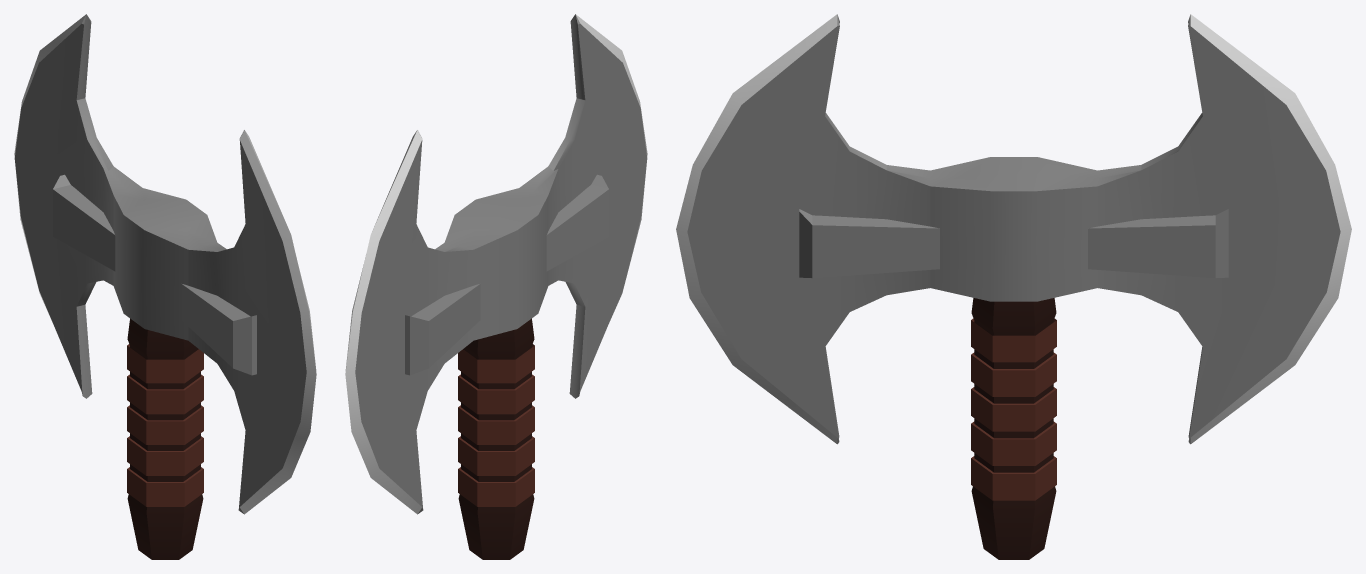
The model's file is Axe36.glb.
The picture shows the model from 3 angles, left to right: view 1: azimuth 30°, elevation 25°; view 2: azimuth 150°, elevation 25°; view 3: azimuth 270°, elevation 25°; orthographic projection. The views are drawn at different scales.
Visible parts, largest first — view 1: weapon_generator; view 2: weapon_generator; view 3: weapon_generator.
Part boxes in pixels (bbox=[...]): weapon_generator: bbox=[14, 14, 316, 559]; weapon_generator: bbox=[345, 14, 647, 559]; weapon_generator: bbox=[676, 14, 1351, 559].
Size of the model in its own units: 0.0378 by 0.275 by 0.315.
